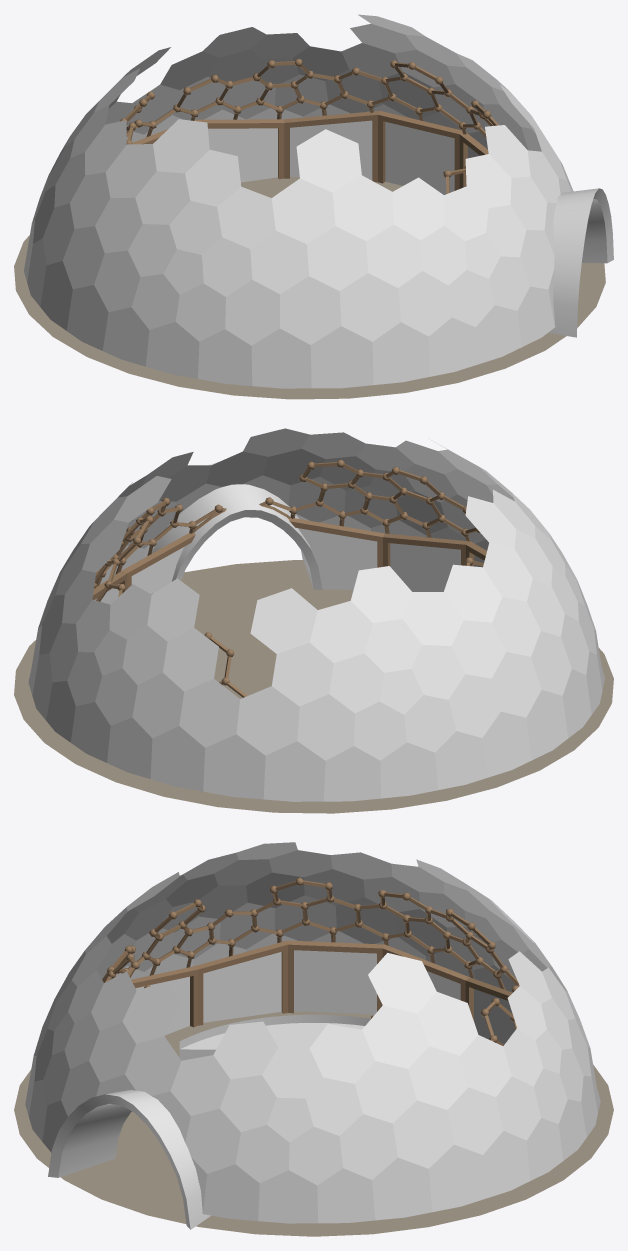
File: BOD_v9_Env.glb
3 views of the same model, one above another, from view 1: azimuth 30°, elevation 25°; view 2: azimuth 150°, elevation 25°; view 3: azimuth 270°, elevation 25° (orthographic).
Visible parts, largest first — view 1: Dome_v2_b_dissolving, Walls, Ground, Gate, Dome_v2_dissolving_wp, ICO球.049; view 2: Dome_v2_b_dissolving, Ground, Walls, Gate, Dome_v2_dissolving_wp, ICO球.049; view 3: Dome_v2_b_dissolving, Walls, Ground, Gate, Dome_v2_dissolving_wp, Stage, ICO球.049.
Boxes of the visible parts, x1=… form: Dome_v2_b_dissolving: x1=24, y1=14, x2=573, y2=388; Walls: x1=132, y1=111, x2=488, y2=194; Ground: x1=14, y1=176, x2=605, y2=399; Gate: x1=548, y1=188, x2=613, y2=337; Dome_v2_dissolving_wp: x1=125, y1=61, x2=498, y2=193; ICO球.049: x1=120, y1=58, x2=491, y2=177; Dome_v2_b_dissolving: x1=28, y1=428, x2=604, y2=801; Ground: x1=14, y1=560, x2=613, y2=813; Walls: x1=92, y1=518, x2=486, y2=604; Gate: x1=151, y1=461, x2=322, y2=589; Dome_v2_dissolving_wp: x1=95, y1=462, x2=483, y2=697; ICO球.049: x1=94, y1=459, x2=479, y2=685; Dome_v2_b_dissolving: x1=25, y1=842, x2=600, y2=1223; Walls: x1=131, y1=940, x2=515, y2=1044; Ground: x1=14, y1=1011, x2=613, y2=1236; Gate: x1=48, y1=1090, x2=210, y2=1229; Dome_v2_dissolving_wp: x1=102, y1=880, x2=519, y2=1045; Stage: x1=179, y1=1014, x2=370, y2=1060; ICO球.049: x1=107, y1=877, x2=518, y2=1042.
Size of the model in its own units: 2 by 0.8445 by 2.
